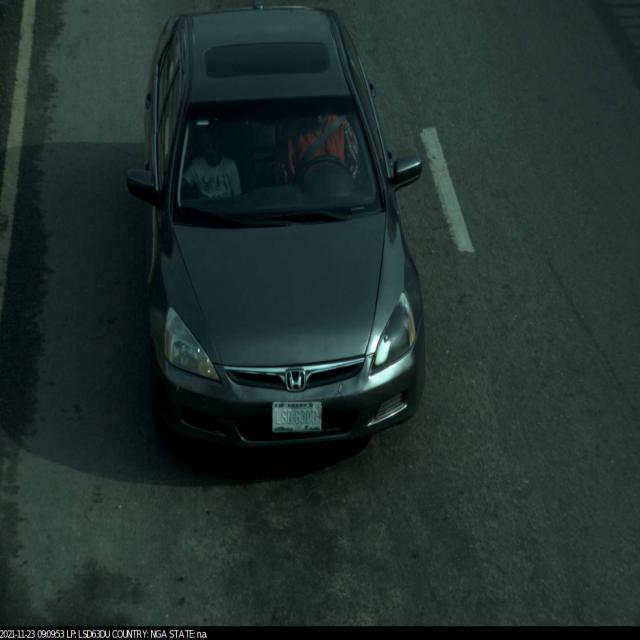windshield: (159, 78, 395, 241)
